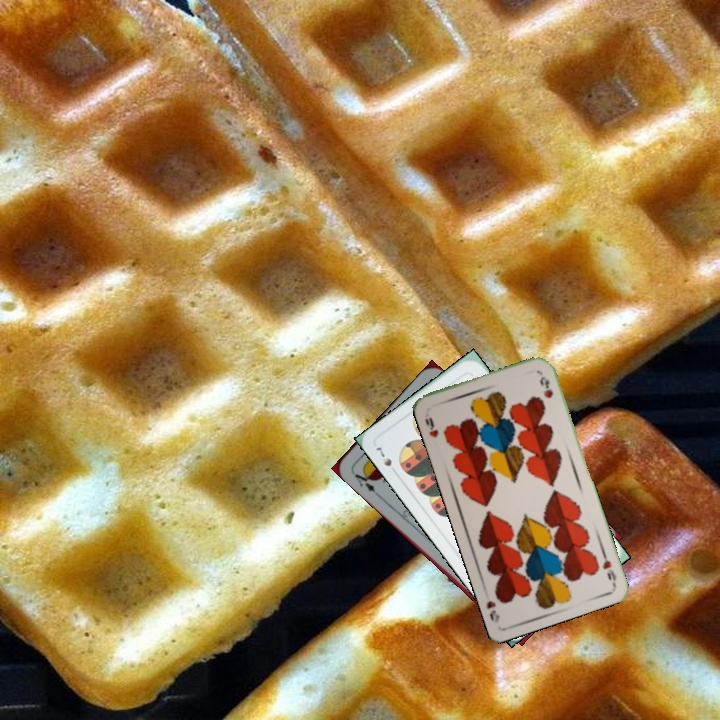EA: (348, 466, 378, 495)
H9: (598, 547, 619, 587), (421, 413, 441, 440)
S7: (371, 443, 400, 477)
